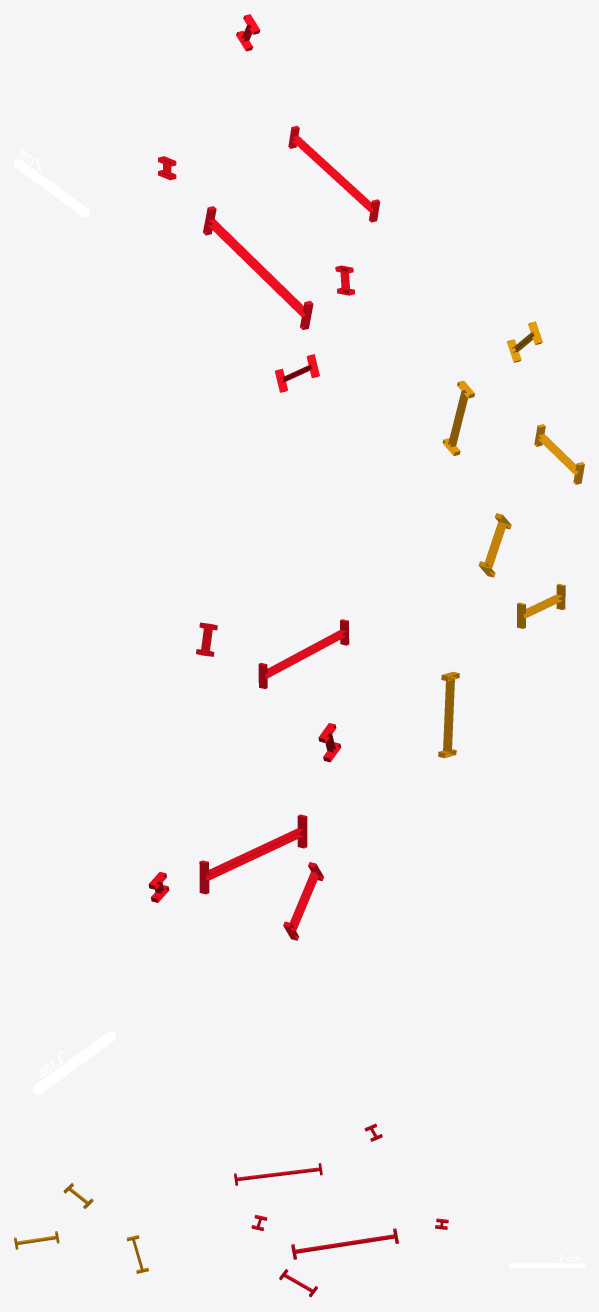
The model's file is Thickness.glb.
3 renders of one model, top to bottom at view 1: azimuth 30°, elevation 25°; view 2: azimuth 150°, elevation 25°; view 3: azimuth 270°, elevation 25°, orthographic. The views are drawn at different scales.
Parts seen in each view (by area): view 1: Plane.002, Plane.005, Cube.003; view 2: Plane.002, Plane.005, Cube.003; view 3: Plane.002, Plane.005, Cube.003.
Part boxes in pixels (bbox=[...]): Plane.002: bbox=[158, 14, 380, 392]; Plane.005: bbox=[442, 321, 584, 484]; Cube.003: bbox=[14, 159, 89, 217]; Plane.002: bbox=[148, 619, 349, 940]; Plane.005: bbox=[438, 513, 565, 758]; Cube.003: bbox=[33, 1031, 115, 1094]; Plane.002: bbox=[234, 1123, 448, 1297]; Plane.005: bbox=[14, 1183, 148, 1273]; Cube.003: bbox=[509, 1263, 584, 1268].
Size of the model in its own units: 0.00862 by 0.0521 by 0.1506.
